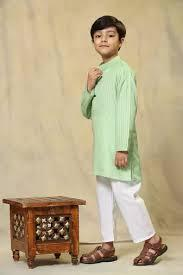Human: (75, 12, 171, 272)
